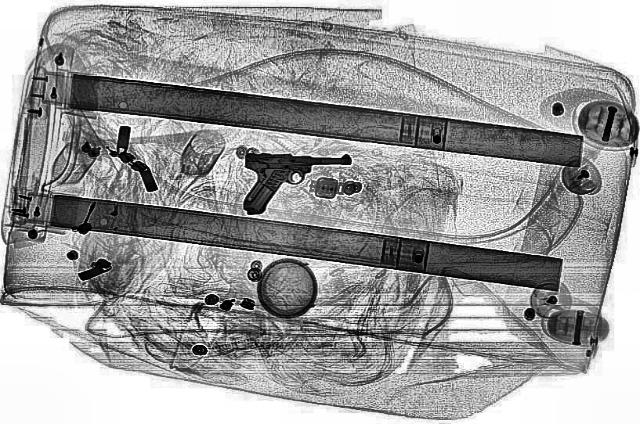Gun: (242, 153, 352, 213)
